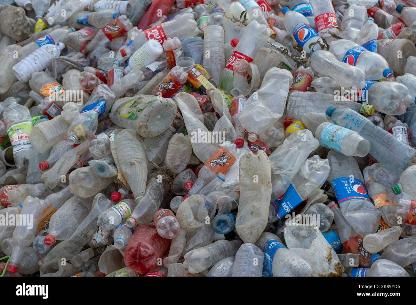Plastic Bottle: (326, 106, 416, 174), (183, 141, 240, 203), (120, 13, 200, 57), (68, 84, 116, 146), (7, 196, 45, 274), (328, 40, 394, 80), (45, 195, 95, 247), (12, 43, 64, 84), (13, 28, 75, 62), (366, 178, 406, 230), (81, 15, 132, 55), (281, 6, 325, 52), (314, 121, 370, 157)
